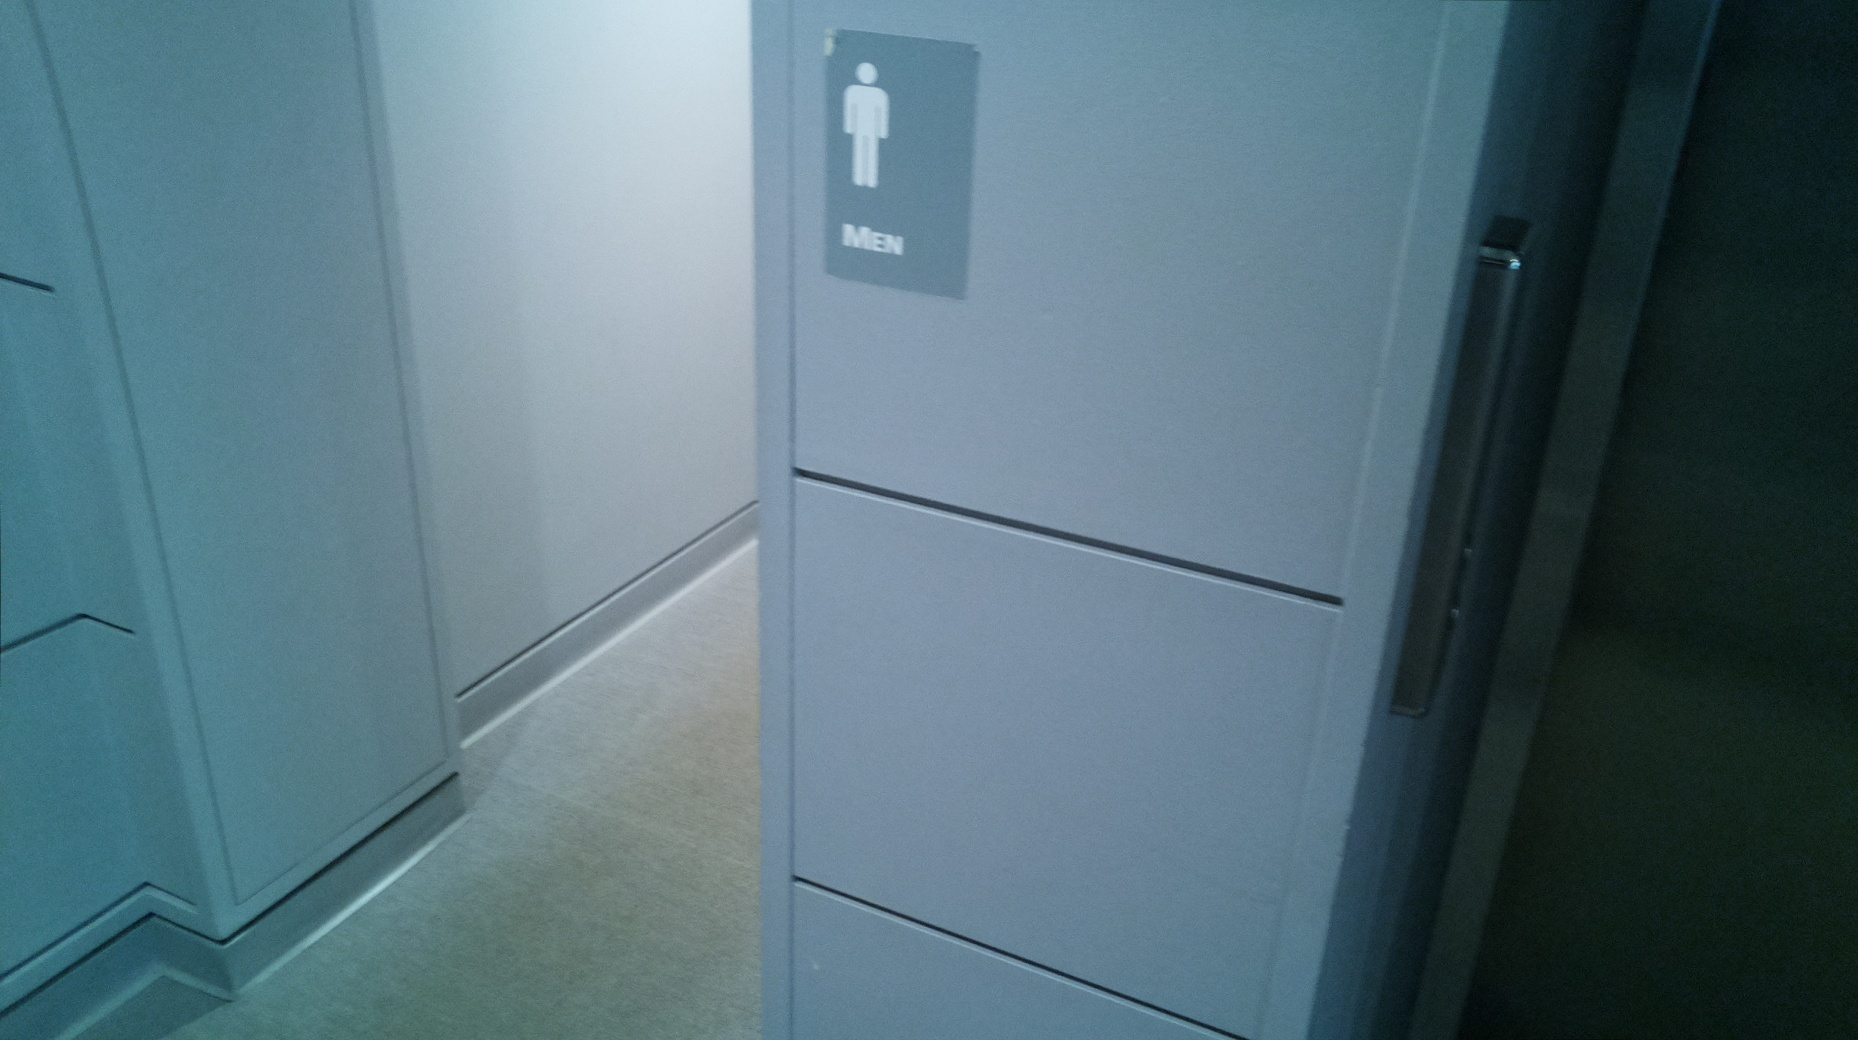bathroom sign: (815, 18, 990, 308)
